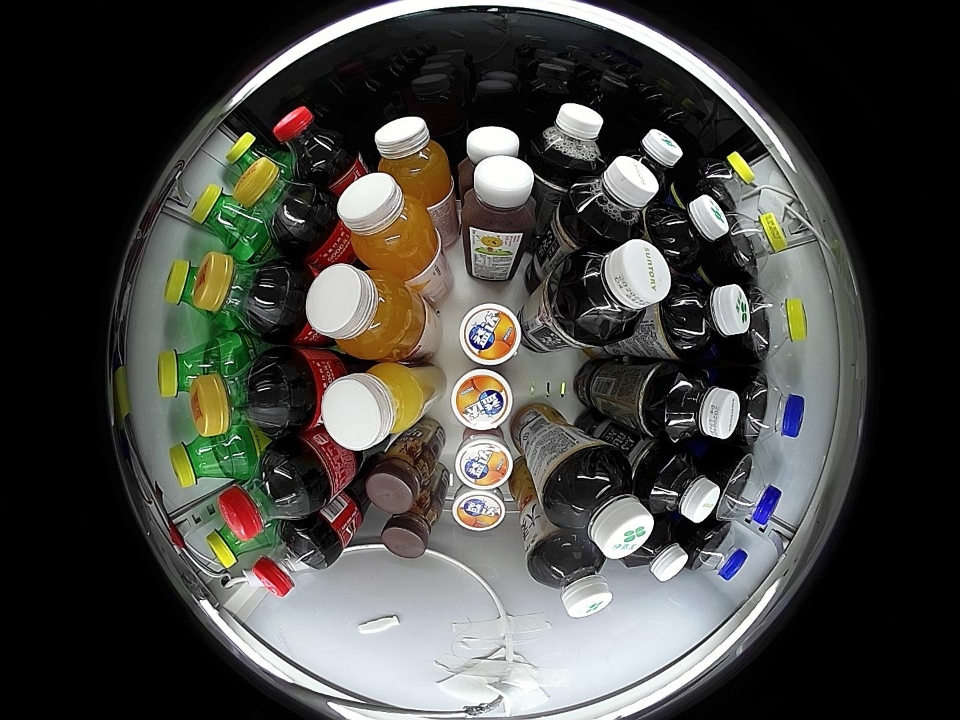baishikele: (744, 287, 808, 361), (721, 209, 786, 278), (694, 151, 756, 209)
baishikele-2: (715, 454, 783, 528), (739, 372, 805, 444), (686, 522, 750, 582)
damaicha: (541, 444, 654, 559), (528, 532, 612, 618), (660, 280, 751, 359), (645, 195, 730, 270), (619, 129, 682, 189)
kele-b: (219, 451, 311, 540), (252, 523, 330, 598), (273, 105, 347, 178)
kele-b-2: (190, 354, 290, 435), (192, 253, 289, 335), (234, 156, 323, 245)
lujikafei: (364, 441, 435, 514), (381, 496, 442, 560)
nfc: (321, 362, 424, 451)
weic: (306, 264, 422, 360), (336, 173, 442, 278), (373, 115, 454, 204)
wulongcha: (564, 240, 671, 340), (566, 156, 658, 242), (659, 366, 740, 444), (645, 448, 720, 523), (529, 101, 605, 175), (624, 517, 689, 582)
xuebi-b: (192, 183, 260, 254), (159, 338, 228, 398), (169, 430, 240, 487), (205, 516, 259, 570), (165, 256, 208, 318), (224, 131, 279, 178)
yida: (458, 302, 522, 366), (451, 368, 514, 431), (454, 432, 514, 490), (452, 487, 508, 532)
youyanggudong: (461, 156, 538, 240), (457, 125, 521, 176)
